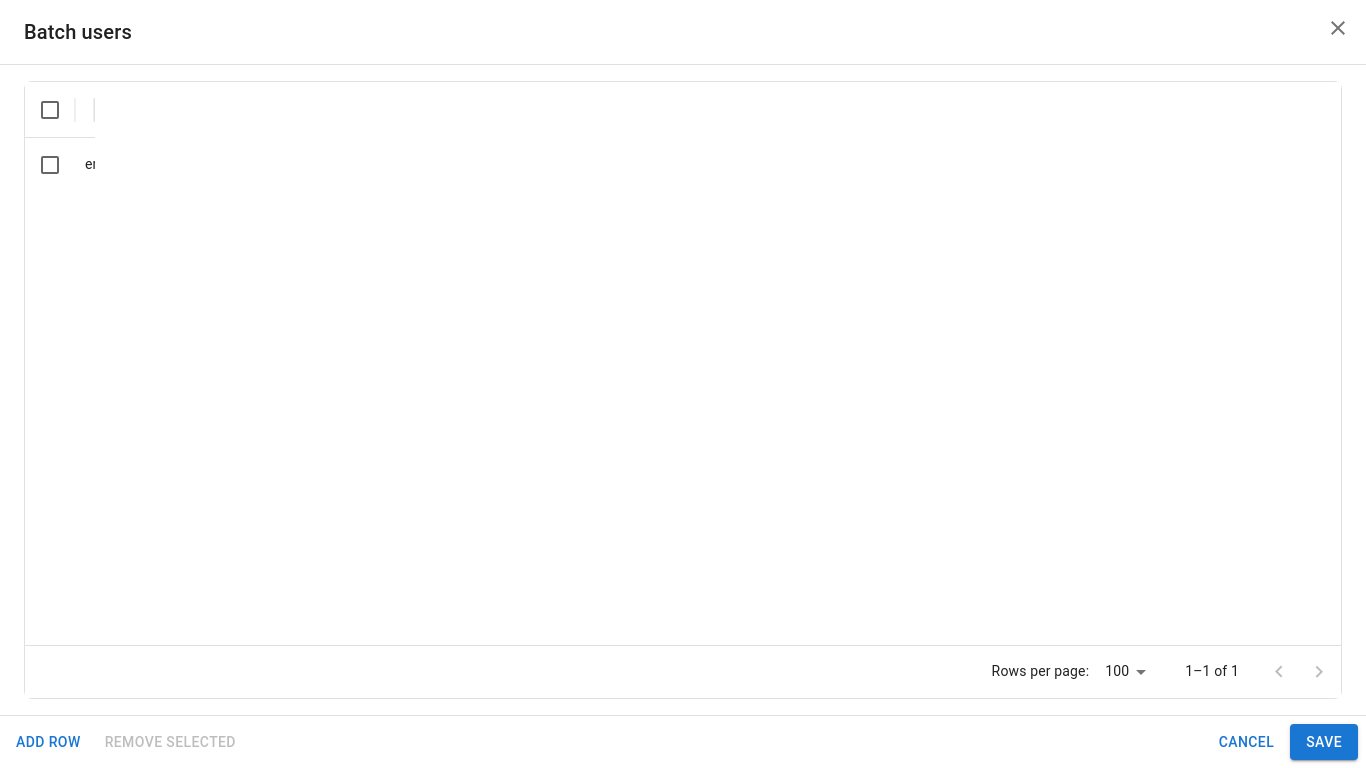
Test: BatchEntityDialog › renders a full-screen create grid and can add/remove rows
Check: the heading "Batch users" is shown, box [24, 20, 132, 44]
Check: the text "empty" is shown once, box [85, 156, 124, 172]
Click the button "Add row" at (48, 742), box [8, 724, 89, 760]
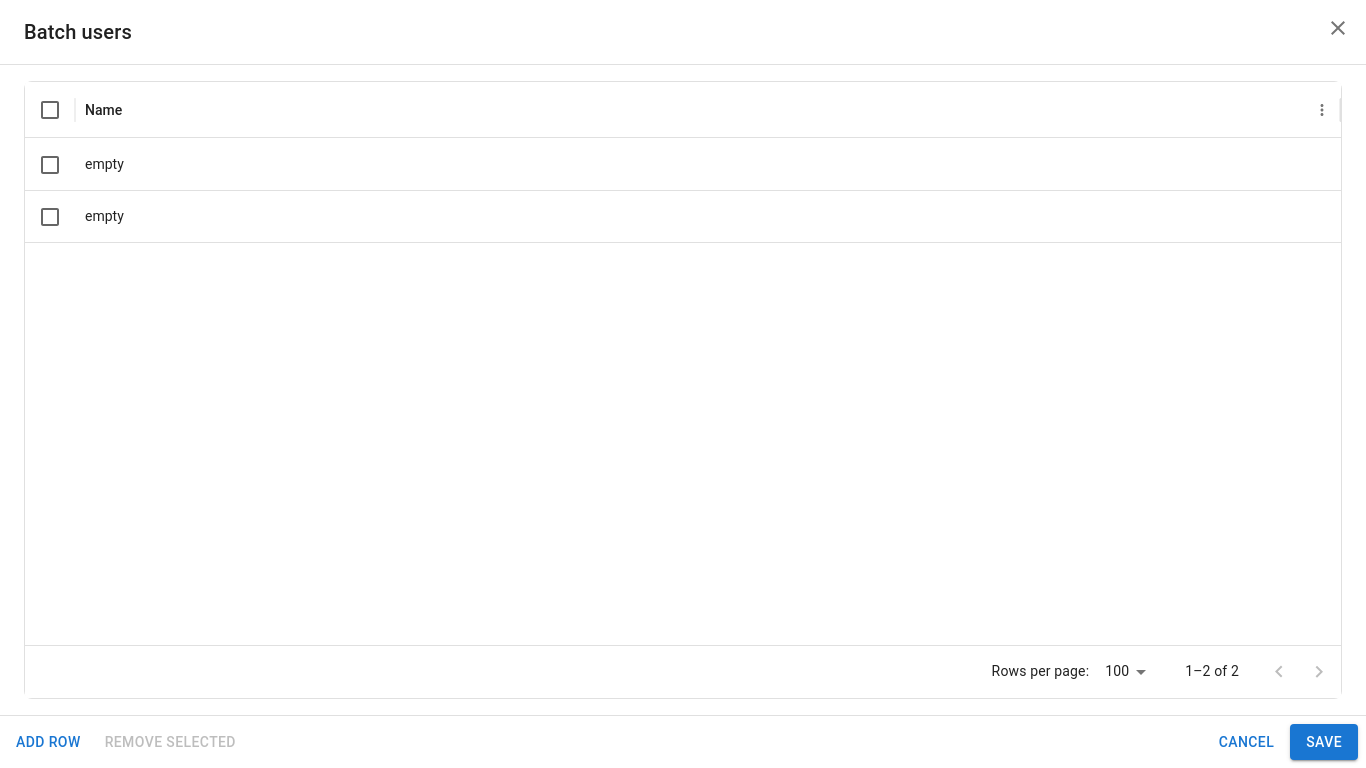
Check: the text "empty" is shown 2 times, box [85, 156, 124, 172]; [75, 190, 1341, 242]
Click the checkbox named "Select row" at (50, 164), box [38, 152, 62, 176]
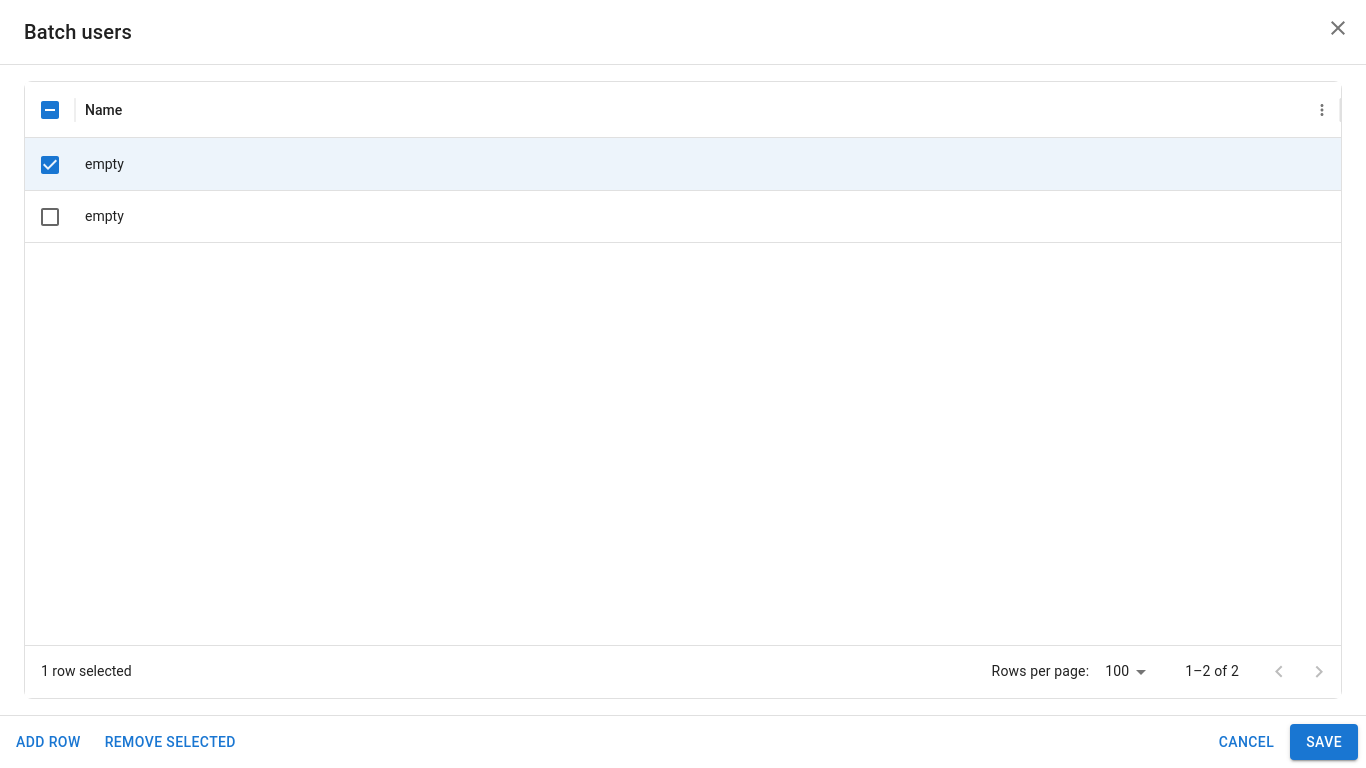
Click the button "Remove selected" at (170, 742), box [97, 724, 244, 760]
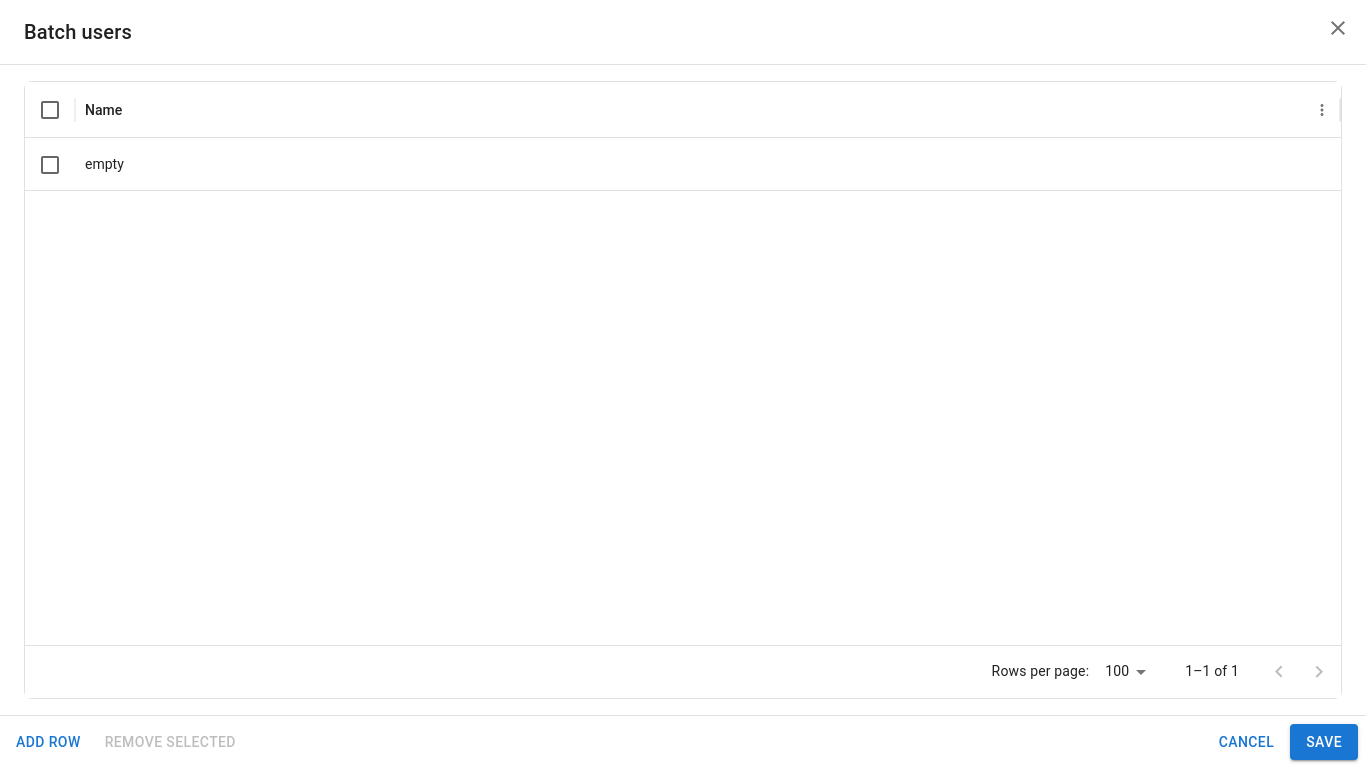
Check: the text "empty" is shown once, box [85, 156, 124, 172]
